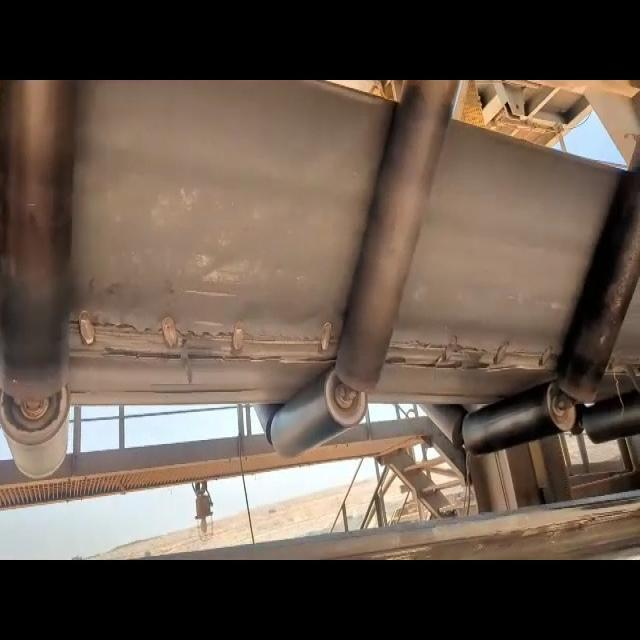Tear: (58, 307, 346, 367), (379, 332, 562, 382)
